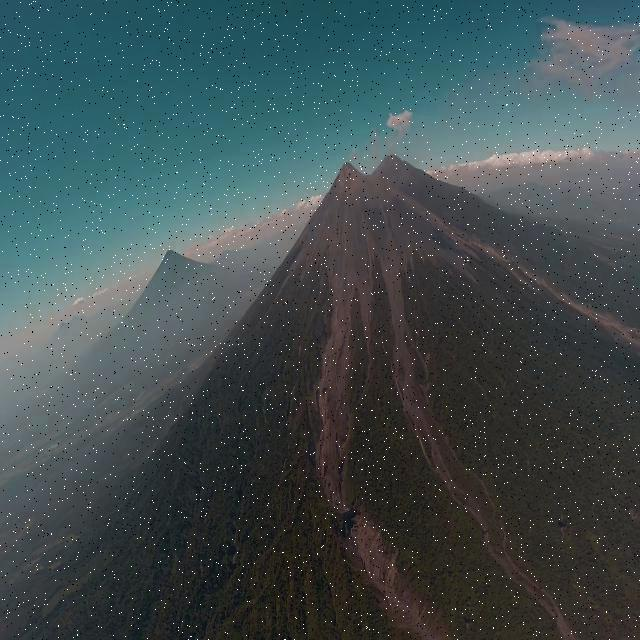Plume: (386, 108, 414, 150)
Summit: (334, 161, 364, 187)
